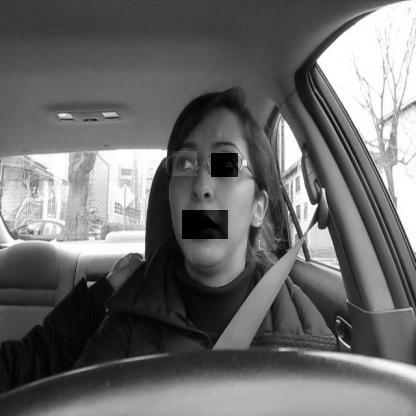seatbelt: (150, 80, 304, 351)
